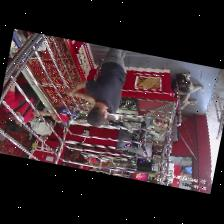person: (64, 47, 125, 126), (4, 83, 37, 122), (76, 164, 95, 170)
